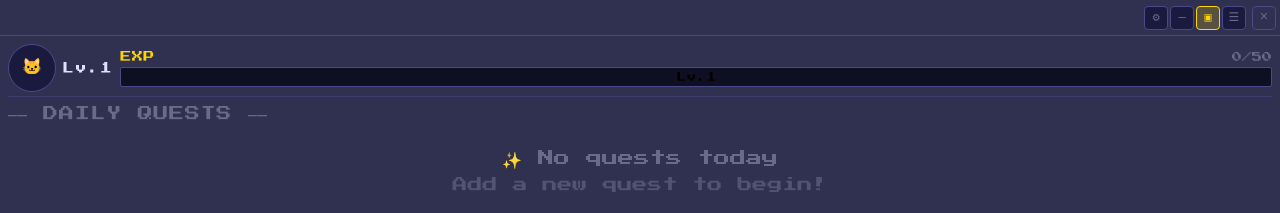
it: App › switches widget modes via buttons
# Click mini mode button
Click the button titled "Mini mode [1]".
click(1182, 18)  # box [1170,6,1194,30]
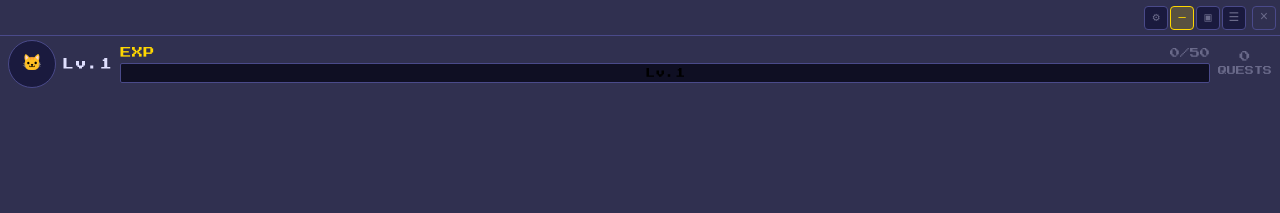
# Click compact mode button
Click the button titled "Compact mode [2]".
click(1208, 18)  # box [1196,6,1220,30]
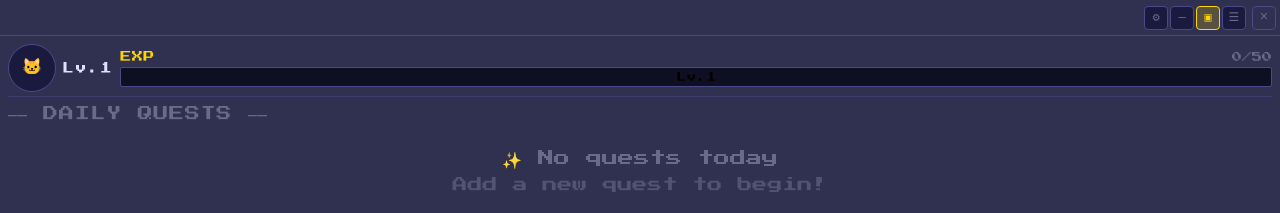
Expected: the text "── DAILY QUESTS ──" is shown, [8,106,268,121]
# Click full mode button
Click the button titled "Full mode [3]".
click(1234, 18)  # box [1222,6,1246,30]
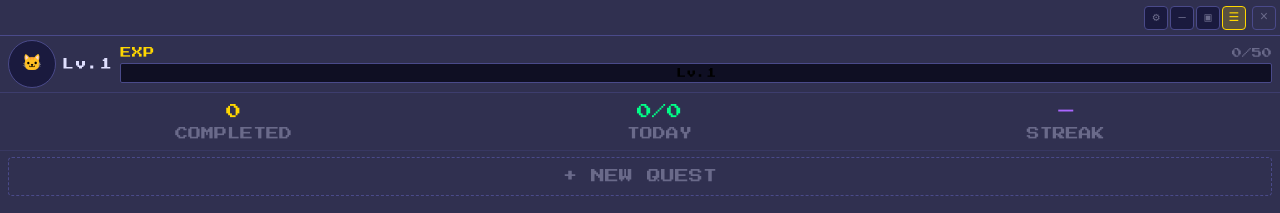
Expected: the button "+ NEW QUEST" is shown, [8,156,1272,196]
